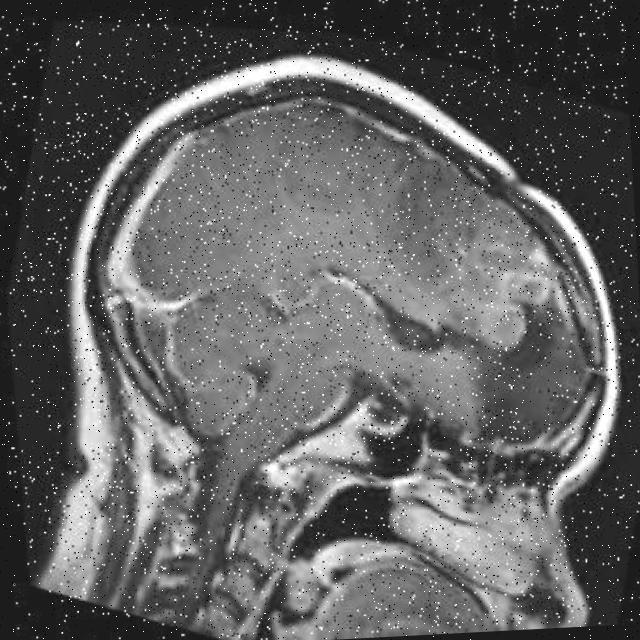CN: (388, 189, 596, 411)
